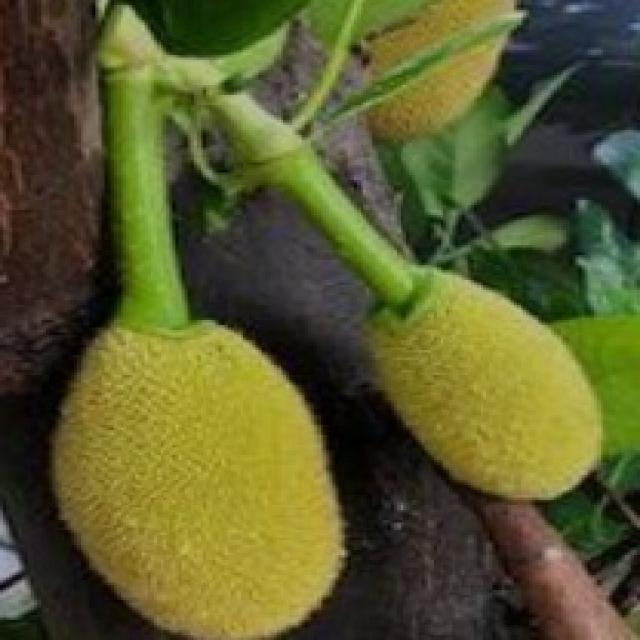Fruit: (9, 292, 385, 640), (317, 242, 637, 538), (307, 0, 578, 185)
